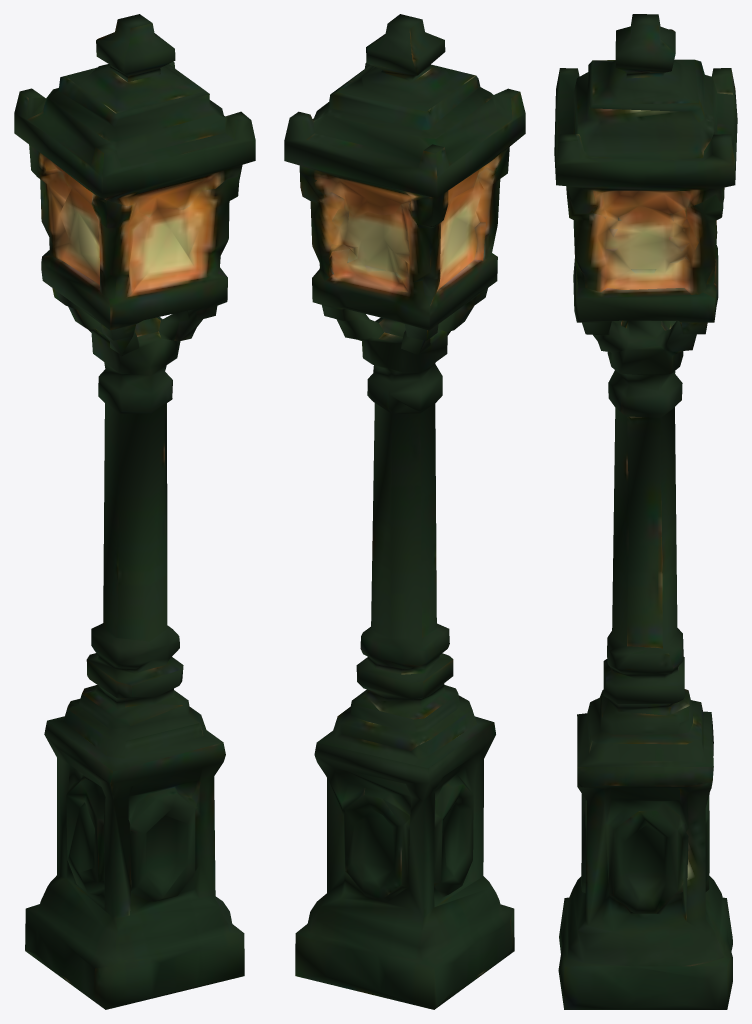
Rendered from paris-street-lamp.glb.
The picture shows the model from 3 angles, left to right: view 1: azimuth 30°, elevation 25°; view 2: azimuth 150°, elevation 25°; view 3: azimuth 270°, elevation 25°; orthographic projection.
Visible parts, largest first — view 1: material; view 2: material; view 3: material.
Part boxes in pixels (x1,y1,x2,y2): material: (14, 14, 255, 1009); material: (284, 14, 525, 1009); material: (554, 14, 737, 1009).
Bounding box in the file's own units: 0.199 × 1.17 × 0.2033.
Materials: 1 (1 with a texture image).
